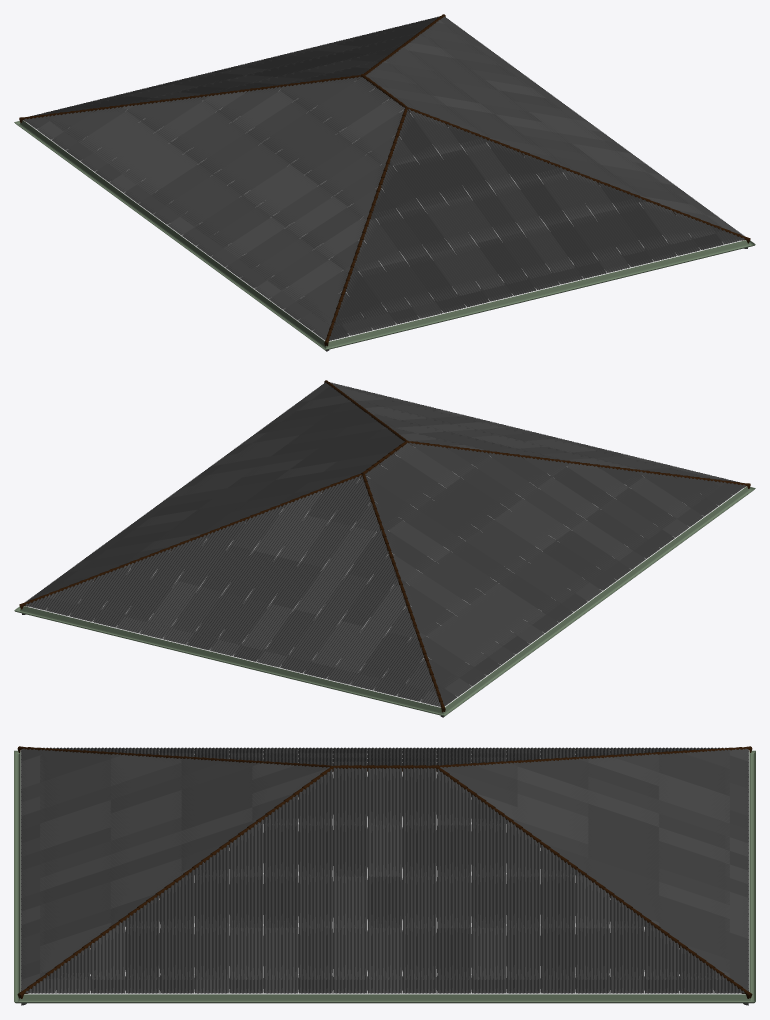
The model's file is Atap .fbx.
3 views of the same model, one above another, from view 1: azimuth 30°, elevation 25°; view 2: azimuth 150°, elevation 25°; view 3: azimuth 270°, elevation 25° (orthographic). The views are drawn at different scales.
Parts seen in each view (by area): view 1: Atap; view 2: Atap; view 3: Atap.
Boxes of the visible parts, left/top/right/bottom form: Atap: left=14, top=14, right=755, bottom=351; Atap: left=14, top=380, right=755, bottom=717; Atap: left=14, top=746, right=755, bottom=1005.
Size of the model in its own units: 1838 by 401 by 2295.
